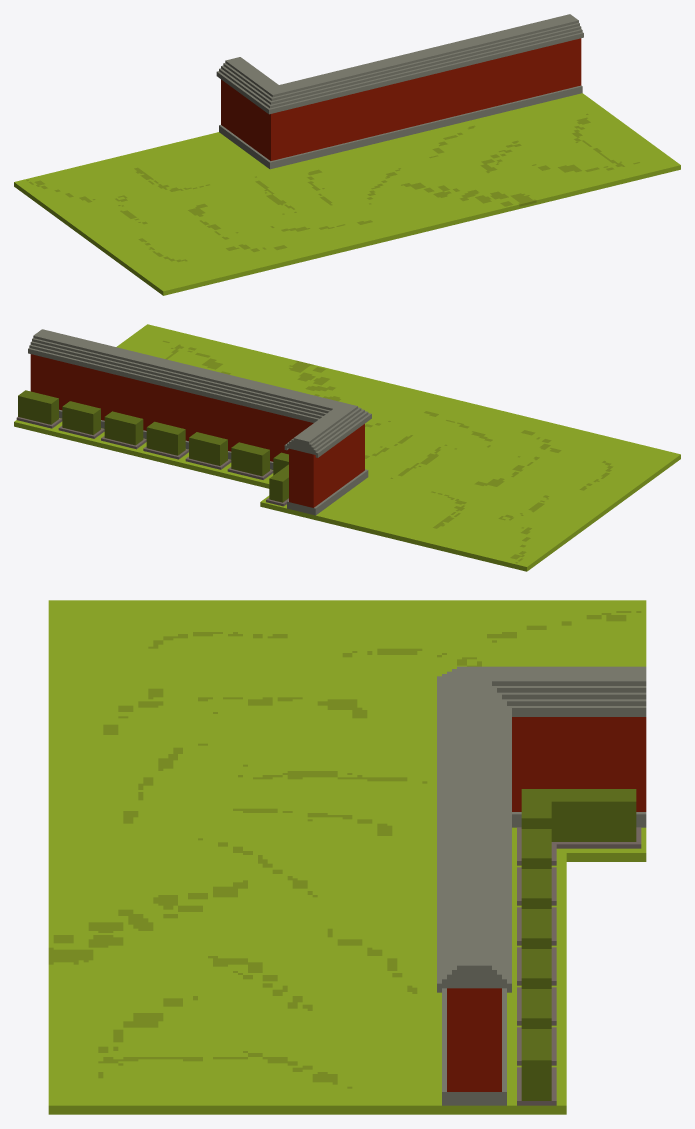
File: Map-3.obj
3 views of the same model, one above another, from view 1: azimuth 30°, elevation 25°; view 2: azimuth 150°, elevation 25°; view 3: azimuth 270°, elevation 25° (orthographic). The views are drawn at different scales.
Bounding box in the file's own units: 24 × 3.3 × 12.
Materials: 1 (1 with a texture image).
